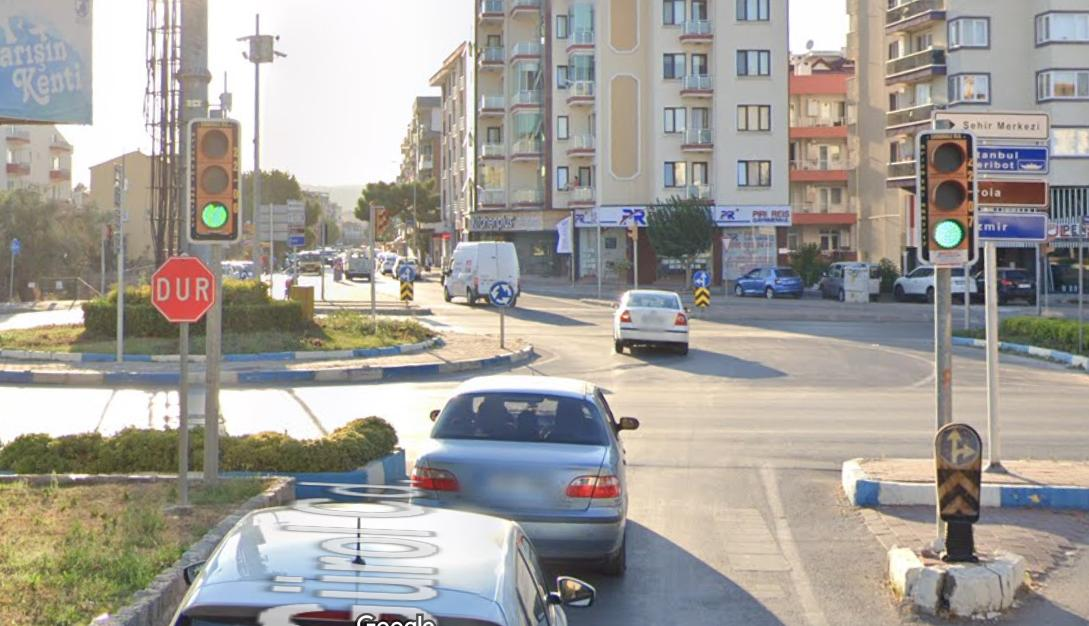greenlight: (917, 134, 975, 260), (190, 120, 237, 235)
stop: (150, 256, 214, 322)
